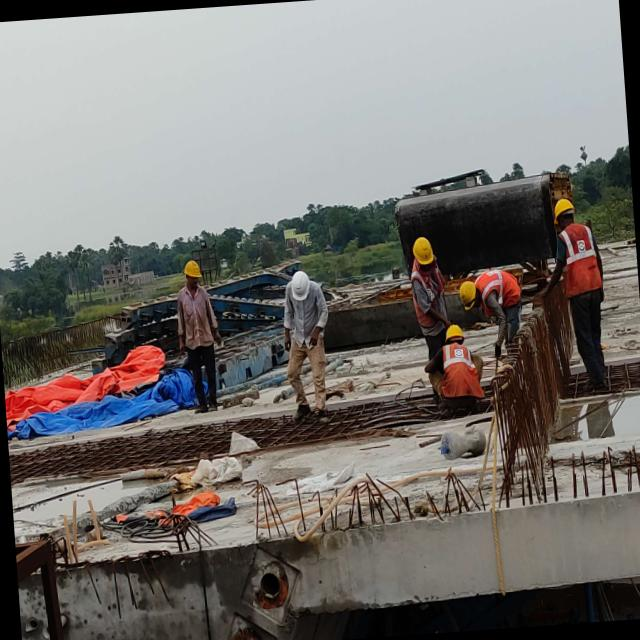cement: (57, 414, 500, 640), (495, 393, 640, 592), (11, 480, 153, 542)
